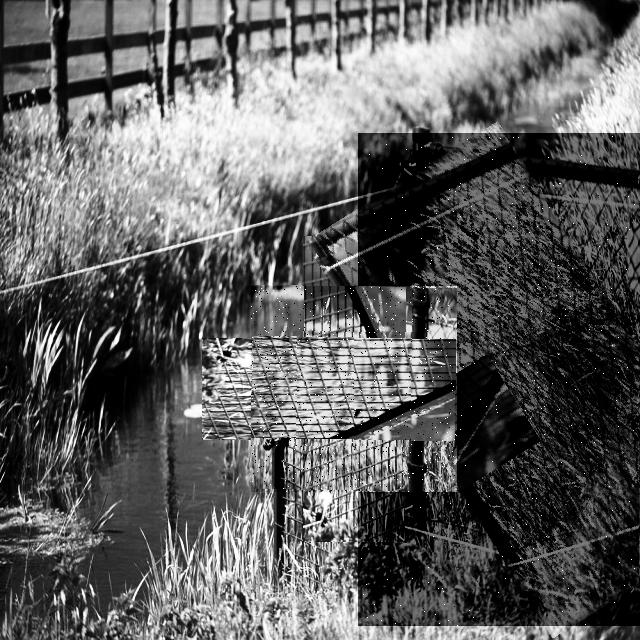fences: (358, 133, 640, 626), (251, 286, 457, 492)
